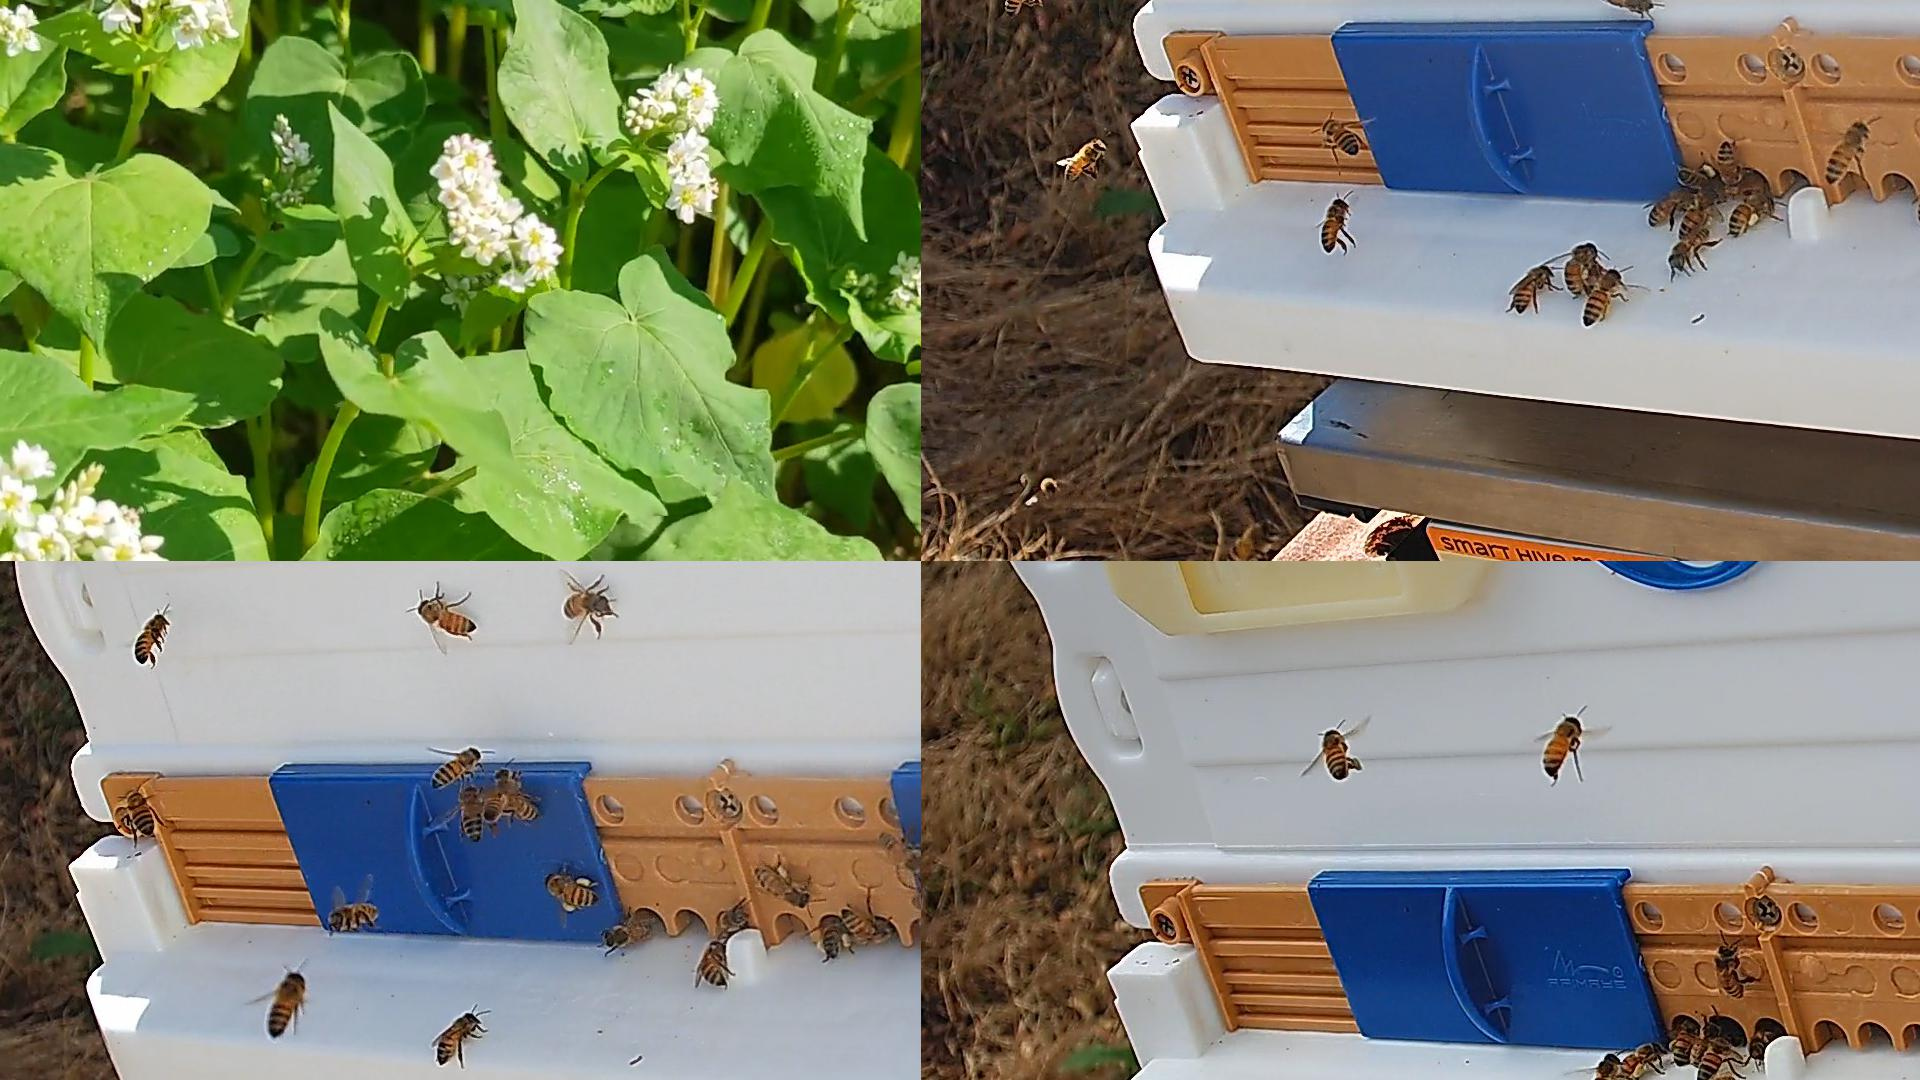bee: (1826, 121, 1867, 186), (268, 972, 306, 1034), (1542, 715, 1580, 775), (1222, 520, 1278, 560), (1584, 268, 1622, 326), (438, 1013, 477, 1064), (1511, 265, 1553, 313), (431, 749, 481, 787), (419, 601, 475, 636), (880, 832, 920, 877), (1650, 191, 1701, 225), (843, 906, 893, 939), (1565, 241, 1597, 293), (136, 615, 169, 663), (1320, 196, 1349, 251), (1672, 228, 1710, 269), (1697, 1035, 1733, 1079), (1064, 141, 1104, 179), (1677, 200, 1720, 236), (1695, 1015, 1727, 1059), (698, 940, 728, 986), (1324, 117, 1358, 157), (1717, 947, 1743, 998), (604, 920, 651, 948), (127, 791, 156, 836), (328, 903, 380, 927), (495, 771, 527, 808), (1717, 141, 1742, 189), (564, 592, 609, 618), (1324, 733, 1350, 778), (1751, 1021, 1779, 1058), (462, 786, 480, 840), (1675, 1021, 1696, 1067), (498, 796, 537, 820), (719, 907, 749, 936), (1741, 171, 1767, 203), (1590, 1054, 1621, 1079), (1005, 0, 1040, 17), (1604, 0, 1655, 11), (484, 791, 502, 819), (1039, 479, 1059, 495)
pollenbee: (756, 865, 811, 903), (546, 873, 599, 911), (1617, 1040, 1665, 1079), (1731, 196, 1774, 235), (816, 916, 853, 959), (1680, 167, 1721, 193)
